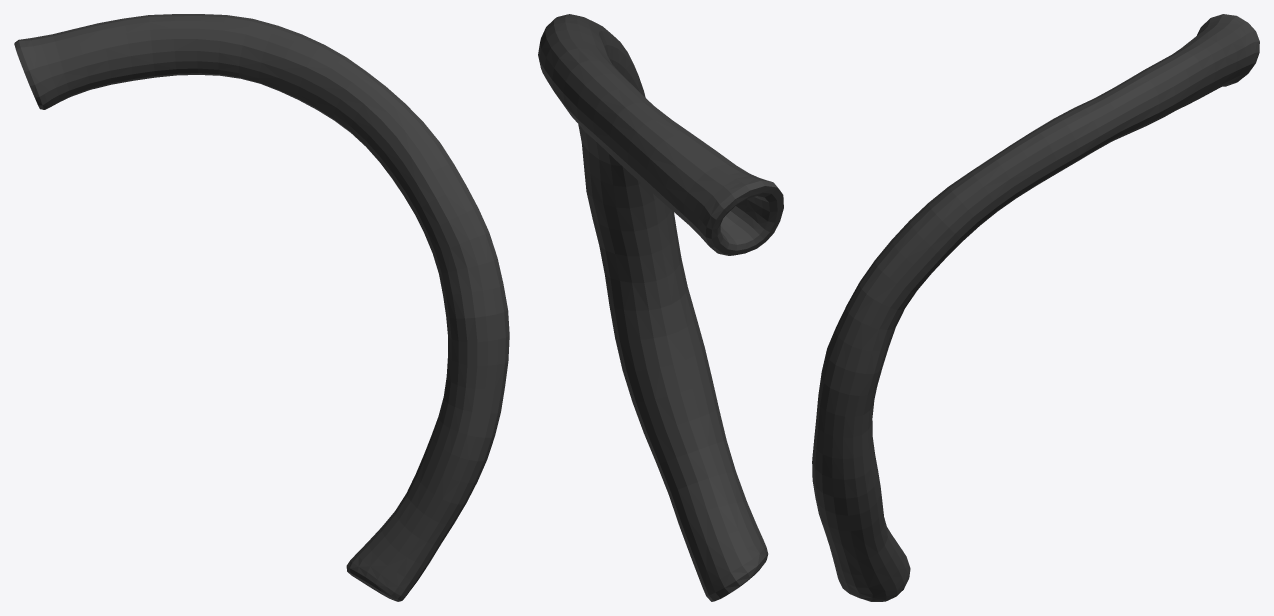
Rendered from Semicircular_canal_posterior_L.glb.
3 renders of one model, left to right at view 1: azimuth 30°, elevation 25°; view 2: azimuth 150°, elevation 25°; view 3: azimuth 270°, elevation 25°, orthographic. The views are drawn at different scales.
Parts seen in each view (by area): view 1: Semicircular_canal_posterior_L; view 2: Semicircular_canal_posterior_L; view 3: Semicircular_canal_posterior_L.
Part boxes in pixels (<box>): Semicircular_canal_posterior_L: <box>14,14,509,601</box>; Semicircular_canal_posterior_L: <box>538,14,783,601</box>; Semicircular_canal_posterior_L: <box>812,14,1259,601</box>.
Bounding box in the file's own units: 0.8551 × 1.3 × 1.04.
1 material, 1 textured.
